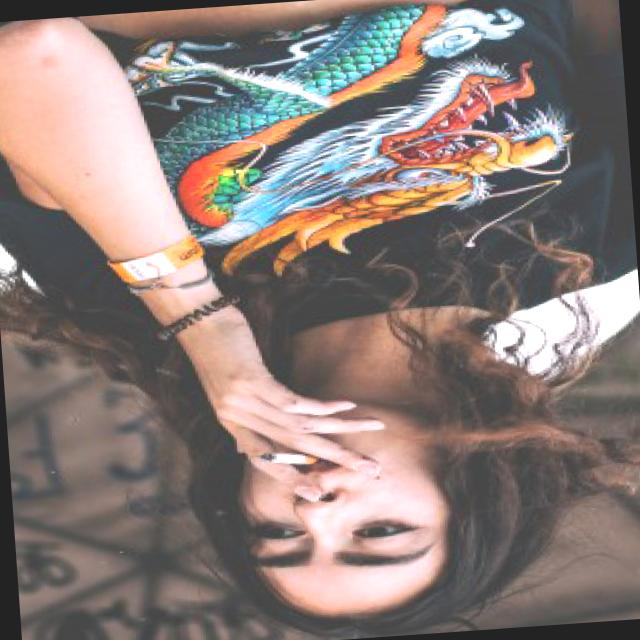smoke: (260, 446, 309, 468)
